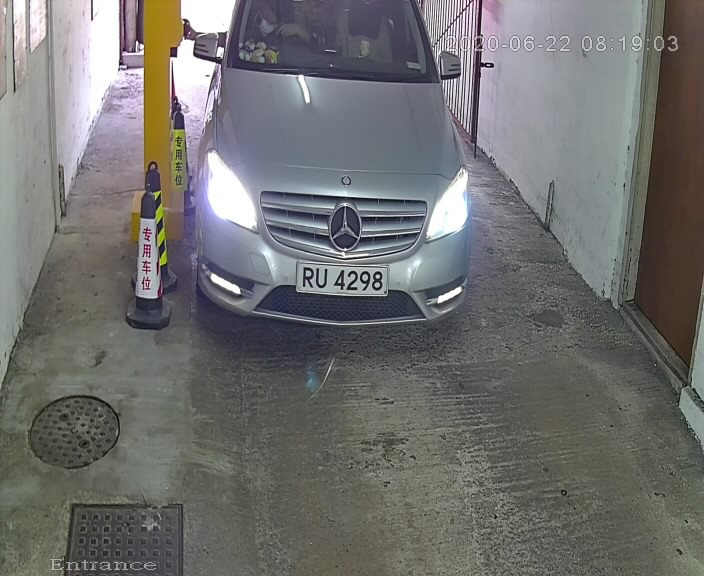privatecar: (175, 1, 503, 365)
